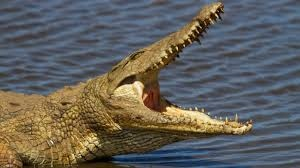crocodile: (1, 1, 256, 166)
